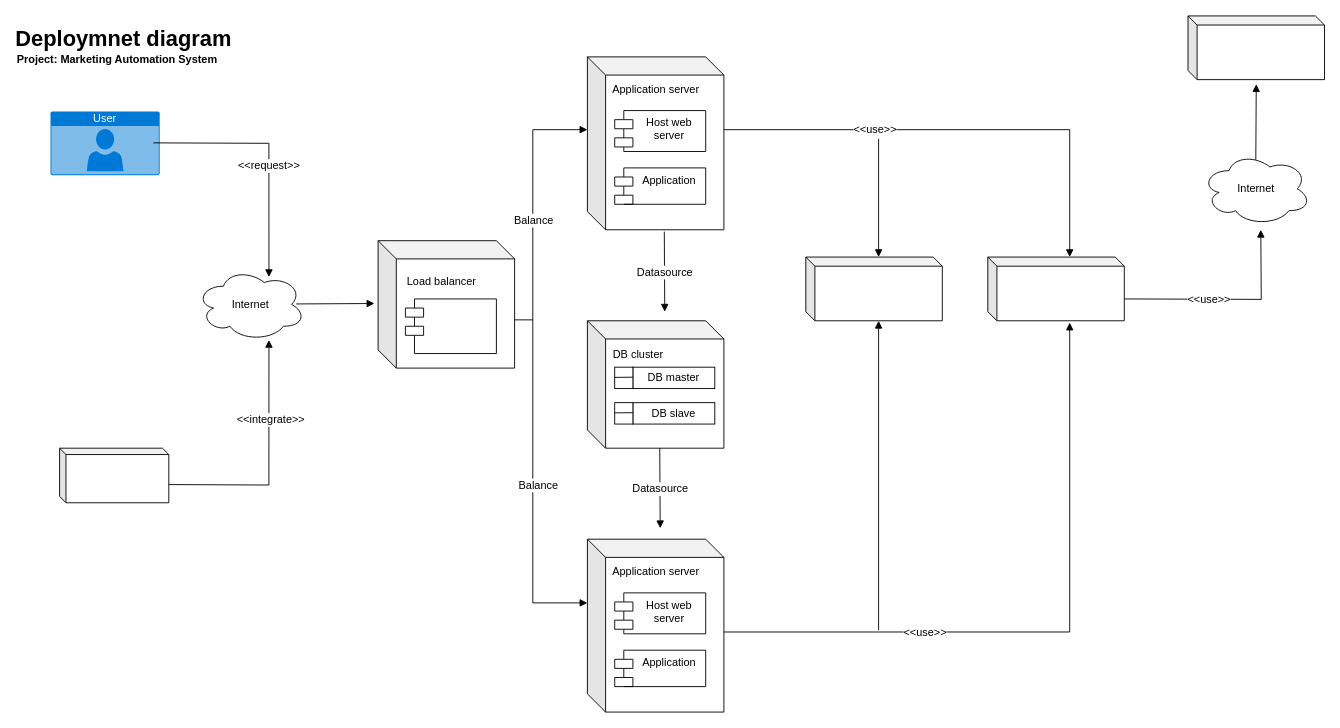
Image size: 1340x728. Some labels were removed from this diagram. Each missing label, with the centre of its shape:
Email server: (873,288)
External CRM: (114,475)
Nginx proxy server: (450,326)
SMS Gate: (1055,288)
SMS Provider: (1256,47)
